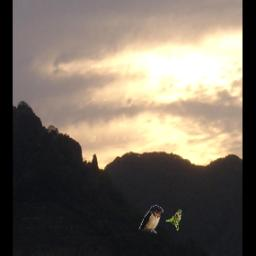Sparrow: (165, 210, 181, 232)
Swallow: (138, 205, 163, 234)
